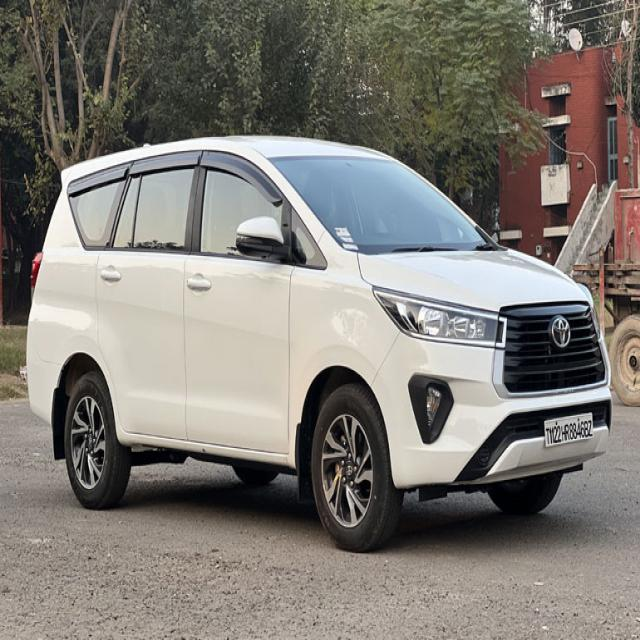light_vehicle: (24, 135, 610, 552)
